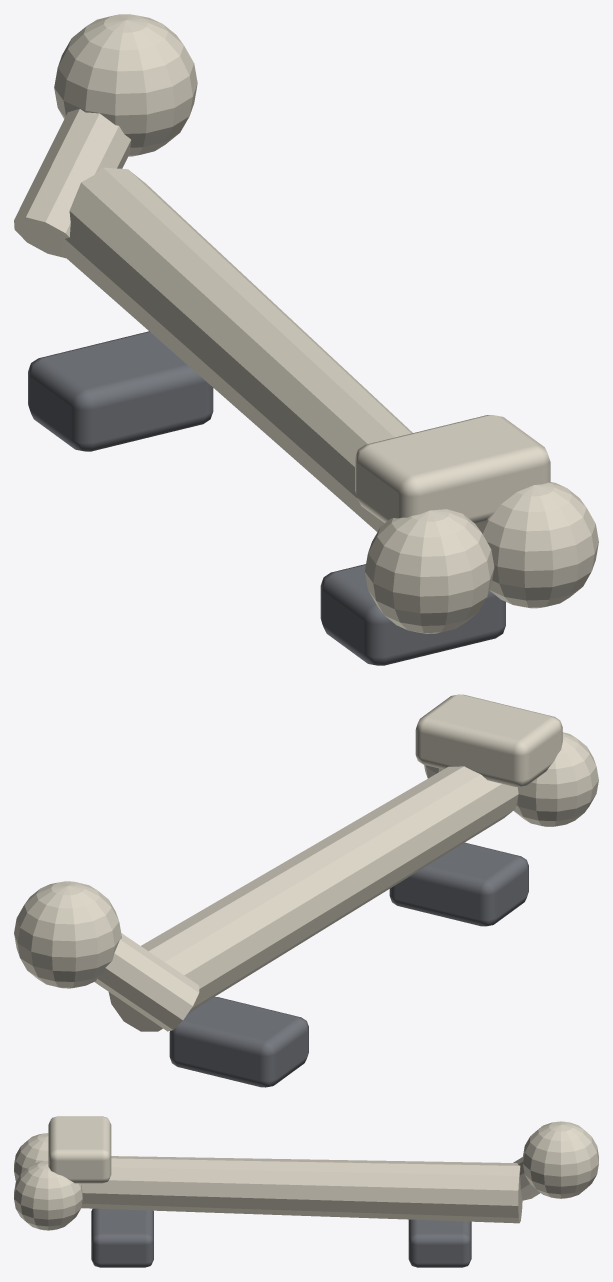
The model's file is human-anatomy-and-education-kit-femur-e326b7f6__38944.glb.
3 views of the same model, one above another, from view 1: azimuth 30°, elevation 25°; view 2: azimuth 150°, elevation 25°; view 3: azimuth 270°, elevation 25° (orthographic). The views are drawn at different scales.
Parts seen in each view (by area): view 1: femur; view 2: femur; view 3: femur.
Boxes of the visible parts, x1,y1,x2,y2 form: femur: (14, 14, 598, 665); femur: (14, 694, 598, 1087); femur: (14, 1116, 598, 1267).
Bounding box in the file's own units: 0.143 × 0.139 × 0.4645.
